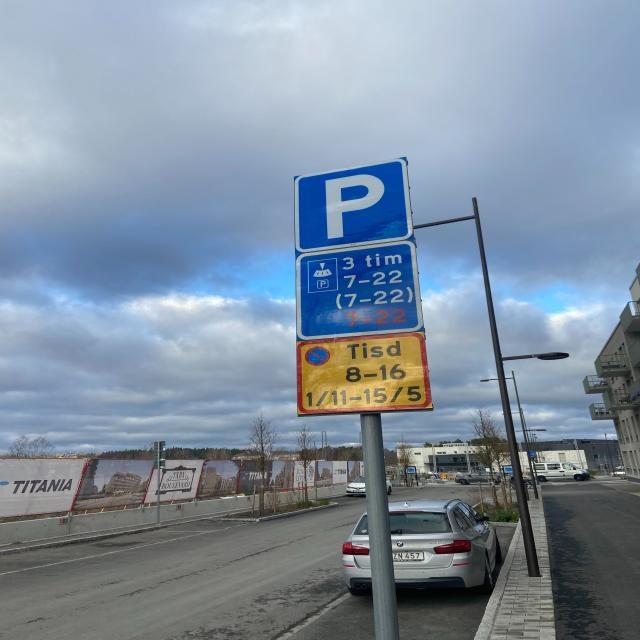avstignnigsplats: (293, 157, 410, 253)
